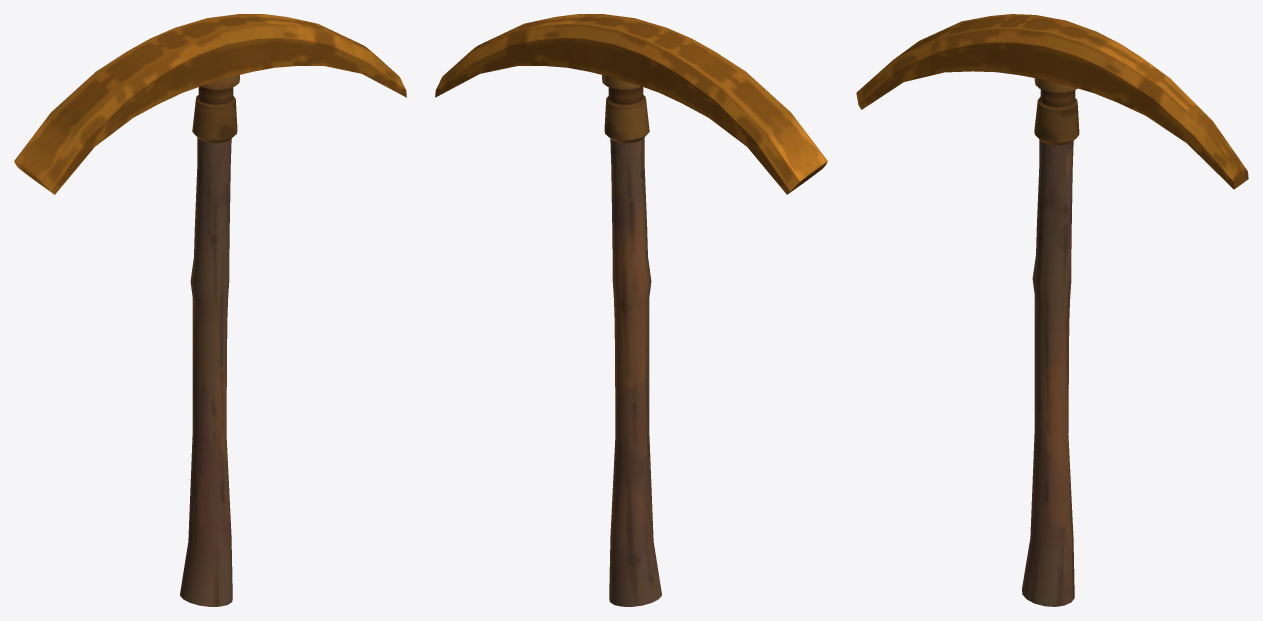
The model's file is prop_pickaxe_bronze.glb.
3 views of the same model, side by side, from view 1: azimuth 30°, elevation 25°; view 2: azimuth 150°, elevation 25°; view 3: azimuth 330°, elevation 25° (orthographic).
Visible parts, largest first — view 1: Pickaxe_Bronze; view 2: Pickaxe_Bronze; view 3: Pickaxe_Bronze.
Boxes of the visible parts, <box> form: Pickaxe_Bronze: <box>14,14,406,606</box>; Pickaxe_Bronze: <box>435,14,827,606</box>; Pickaxe_Bronze: <box>856,14,1248,606</box>.
Size of the model in its own units: 0.8128 by 1.2 by 0.1357.
1 material, 1 textured.
